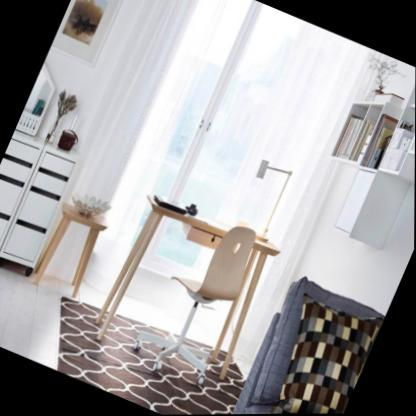Chair: (125, 203, 270, 393)
Sofa: (218, 265, 388, 415)
Table: (86, 185, 287, 393)
